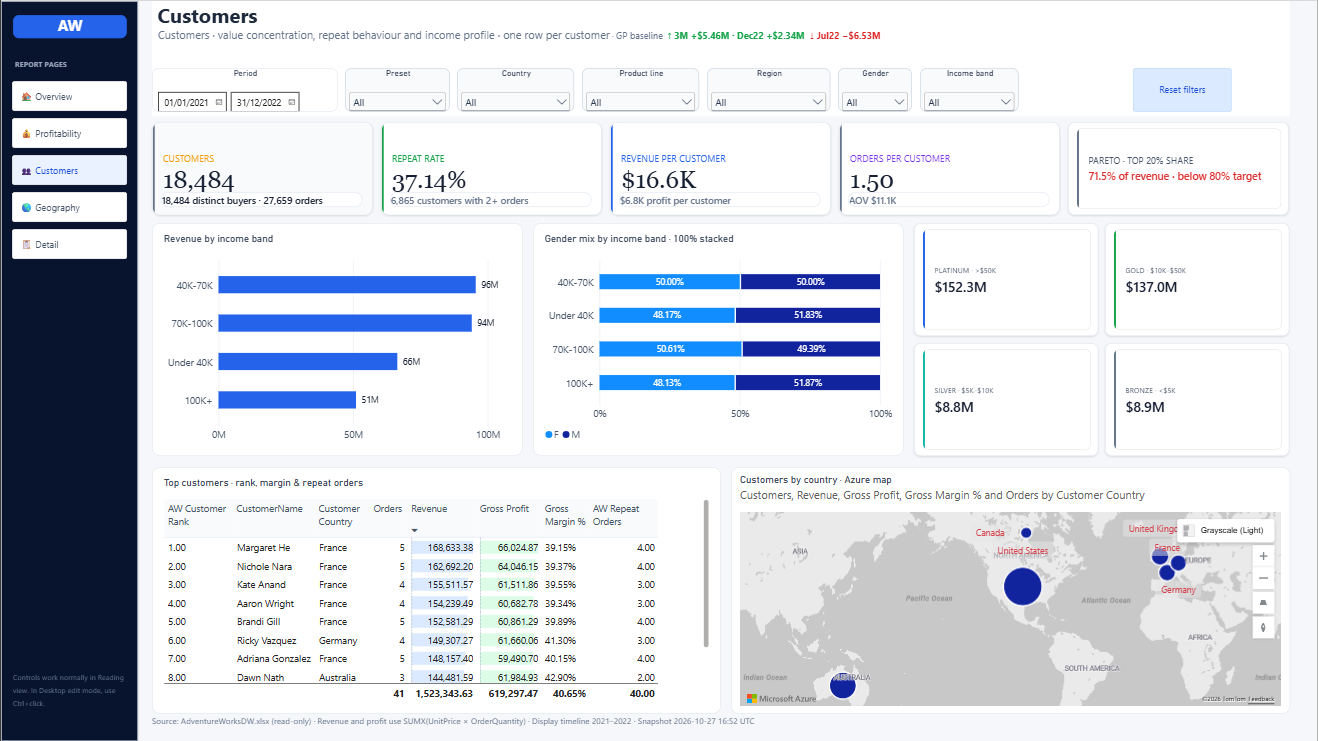

Layout of this report page (visuals, bound fields, positions):
{"tool":"powerbi","page":{"name":"Customers","canvas":[1920,1080],"ordinal":2},"visuals":[{"type":"textbox","box":[220,96,1660,72],"z":0},{"type":"textbox","box":[220,1040,1660,32],"z":1000},{"type":"textbox","box":[220,0,1660,96],"z":2000},{"type":"textbox","box":[0,0,200,1080],"z":3000},{"type":"cardVisual","fields":{"Data":["FactInternetSales.KPI Repeat Rate"]},"box":[554,176,322,136],"z":4000},{"type":"cardVisual","fields":{"Data":["FactInternetSales.KPI Revenue per Customer"]},"box":[888,176,322,136],"z":5000},{"type":"tableEx","title":"Top customers · rank, margin & repeat orders","fields":{"Values":["FactInternetSales.AW Customer Rank","DimCustomer.CustomerName","DimCustomer.Customer Country","FactInternetSales.Orders","FactInternetSales.Revenue","FactInternetSales.Gross Profit","FactInternetSales.Gross Margin %","FactInternetSales.AW Repeat Orders"]},"box":[220,680,830,360],"z":6000},{"type":"cardVisual","fields":{"Data":["FactInternetSales.KPI Customers"]},"box":[220,176,322,136],"z":7000},{"type":"azureMap","title":"Customers by country · Azure map","fields":{"Category":["DimCustomer.Customer Country"],"Size":["FactInternetSales.Customers"]},"box":[1064.4,680,815.6,360],"z":8000},{"type":"cardVisual","fields":{"Data":["FactInternetSales.KPI Orders per Customer"]},"box":[1222,176,322,136],"z":9000},{"type":"hundredPercentStackedBarChart","title":"Gender mix by income band · 100% stacked","fields":{"Category":["DimCustomer.IncomeBand"],"Series":["DimCustomer.Gender"],"Y":["FactInternetSales.Customers"]},"box":[775.7,324,541.3,340],"z":10000},{"type":"cardVisual","fields":{"Data":["FactInternetSales.Top 20% Pareto Insight"]},"box":[1556,176,322,136],"z":11000},{"type":"cardVisual","fields":{"Data":["FactInternetSales.Customer Segment Platinum Revenue Label"]},"box":[1331.5,324,269.3,165],"z":12000},{"type":"cardVisual","fields":{"Data":["FactInternetSales.Customer Segment Gold Revenue Label"]},"box":[1610.7,324,269.3,165],"z":13000},{"type":"cardVisual","fields":{"Data":["FactInternetSales.Customer Segment Silver Revenue Label"]},"box":[1331.5,499,269.3,165],"z":14000},{"type":"cardVisual","fields":{"Data":["FactInternetSales.Customer Segment Bronze Revenue Label"]},"box":[1610.7,499,269.3,165],"z":15000},{"type":"barChart","title":"Revenue by income band","fields":{"Category":["DimCustomer.IncomeBand"],"Y":["FactInternetSales.Revenue"]},"box":[220,324,541.3,340],"z":16000},{"type":"textbox","box":[17.5,976,164.9,64.2],"z":17000},{"type":"textbox","box":[20,82,160,22],"z":18000},{"type":"textbox","box":[17.5,20.4,166.3,33.6],"z":19000},{"type":"slicer","title":"Income band","fields":{"Values":["DimCustomer.IncomeBand"]},"box":[1340.5,98,144.3,64],"z":20000},{"type":"slicer","title":"Product line","fields":{"Values":["DimProduct.ProductLine"]},"box":[847.9,98,171.4,64],"z":21000},{"type":"slicer","title":"Gender","fields":{"Values":["DimCustomer.Gender"]},"box":[1221.4,98,108.3,64],"z":22000},{"type":"actionButton","box":[1650.8,98,144.3,64],"z":23000},{"type":"slicer","title":"Region","fields":{"Values":["DimSalesTerritory.TerritoryGroup"]},"box":[1030.2,98,180.4,64],"z":24000},{"type":"slicer","title":"Period","fields":{"Values":["DimDate.Date"]},"box":[220,98,270.6,64],"z":25000},{"type":"slicer","title":"Preset","fields":{"Values":["Period Preset.Preset"]},"box":[501.5,98,153.4,64],"z":26000},{"type":"slicer","title":"Country","fields":{"Values":["DimCustomer.Customer Country"]},"box":[665.7,98,171.4,64],"z":27000},{"type":"actionButton","box":[16,278,168,44],"z":28000},{"type":"actionButton","box":[16,170,168,44],"z":29000},{"type":"actionButton","box":[16,116,168,44],"z":30000},{"type":"actionButton","box":[16,224,168,44],"z":31000},{"type":"actionButton","box":[16,332,168,44],"z":32000},{"type":"cardVisual","fields":{"Data":["FactInternetSales.Sub Customers Orders per Customer"]},"box":[1236,278,294,22],"z":33000},{"type":"cardVisual","fields":{"Data":["FactInternetSales.Sub Customers Revenue per Customer"]},"box":[902,278,294,22],"z":34000},{"type":"cardVisual","fields":{"Data":["FactInternetSales.Sub Customers Repeat Rate"]},"box":[568,278,294,22],"z":35000},{"type":"cardVisual","fields":{"Data":["FactInternetSales.Sub Customers Customers"]},"box":[234,278,294,22],"z":36000}]}

Visuals, with their boxes on the page's 1920x1080 design canvas (x1, y1, x2, y2). These are canvas units, not pixel positions in the 1318x741 screenshot, which may show the page scaled, cropped or inside an application window:
textbox: BBox(220, 96, 1880, 168)
textbox: BBox(220, 1040, 1880, 1072)
textbox: BBox(220, 0, 1880, 96)
textbox: BBox(0, 0, 200, 1080)
cardVisual - FactInternetSales.KPI Repeat Rate: BBox(554, 176, 876, 312)
cardVisual - FactInternetSales.KPI Revenue per Customer: BBox(888, 176, 1210, 312)
"Top customers · rank, margin & repeat orders" tableEx: BBox(220, 680, 1050, 1040)
cardVisual - FactInternetSales.KPI Customers: BBox(220, 176, 542, 312)
"Customers by country · Azure map" azureMap: BBox(1064, 680, 1880, 1040)
cardVisual - FactInternetSales.KPI Orders per Customer: BBox(1222, 176, 1544, 312)
"Gender mix by income band · 100% stacked" hundredPercentStackedBarChart: BBox(776, 324, 1317, 664)
cardVisual - FactInternetSales.Top 20% Pareto Insight: BBox(1556, 176, 1878, 312)
cardVisual - FactInternetSales.Customer Segment Platinum Revenue Label: BBox(1332, 324, 1601, 489)
cardVisual - FactInternetSales.Customer Segment Gold Revenue Label: BBox(1611, 324, 1880, 489)
cardVisual - FactInternetSales.Customer Segment Silver Revenue Label: BBox(1332, 499, 1601, 664)
cardVisual - FactInternetSales.Customer Segment Bronze Revenue Label: BBox(1611, 499, 1880, 664)
"Revenue by income band" barChart: BBox(220, 324, 761, 664)
textbox: BBox(18, 976, 182, 1040)
textbox: BBox(20, 82, 180, 104)
textbox: BBox(18, 20, 184, 54)
"Income band" slicer: BBox(1340, 98, 1485, 162)
"Product line" slicer: BBox(848, 98, 1019, 162)
"Gender" slicer: BBox(1221, 98, 1330, 162)
actionButton: BBox(1651, 98, 1795, 162)
"Region" slicer: BBox(1030, 98, 1211, 162)
"Period" slicer: BBox(220, 98, 491, 162)
"Preset" slicer: BBox(502, 98, 655, 162)
"Country" slicer: BBox(666, 98, 837, 162)
actionButton: BBox(16, 278, 184, 322)
actionButton: BBox(16, 170, 184, 214)
actionButton: BBox(16, 116, 184, 160)
actionButton: BBox(16, 224, 184, 268)
actionButton: BBox(16, 332, 184, 376)
cardVisual - FactInternetSales.Sub Customers Orders per Customer: BBox(1236, 278, 1530, 300)
cardVisual - FactInternetSales.Sub Customers Revenue per Customer: BBox(902, 278, 1196, 300)
cardVisual - FactInternetSales.Sub Customers Repeat Rate: BBox(568, 278, 862, 300)
cardVisual - FactInternetSales.Sub Customers Customers: BBox(234, 278, 528, 300)
